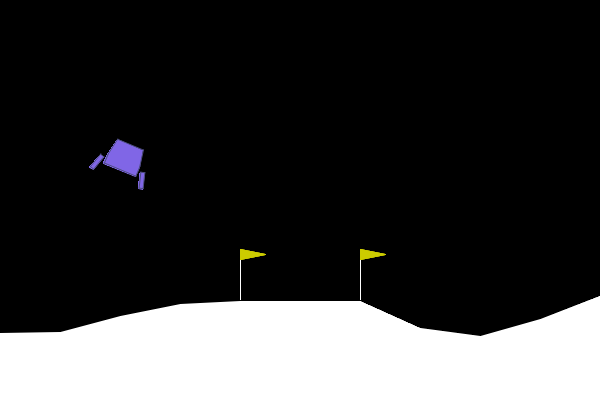lander: (88, 132, 159, 192)
